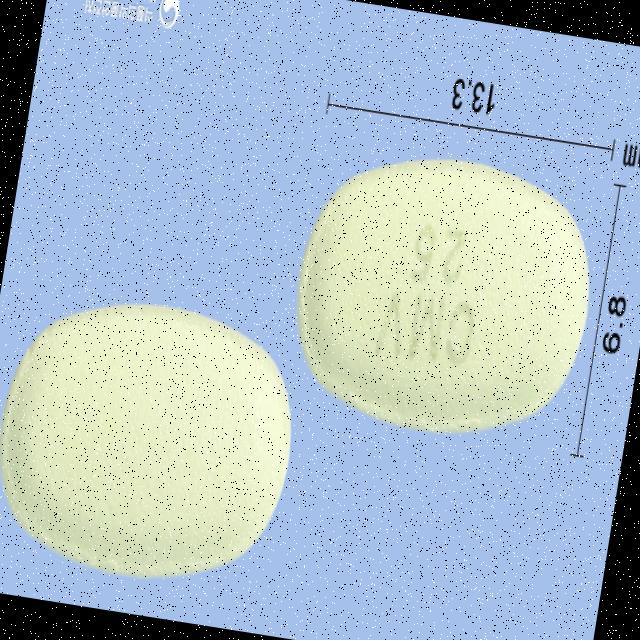Clocide: (279, 134, 609, 458), (0, 283, 311, 604)
